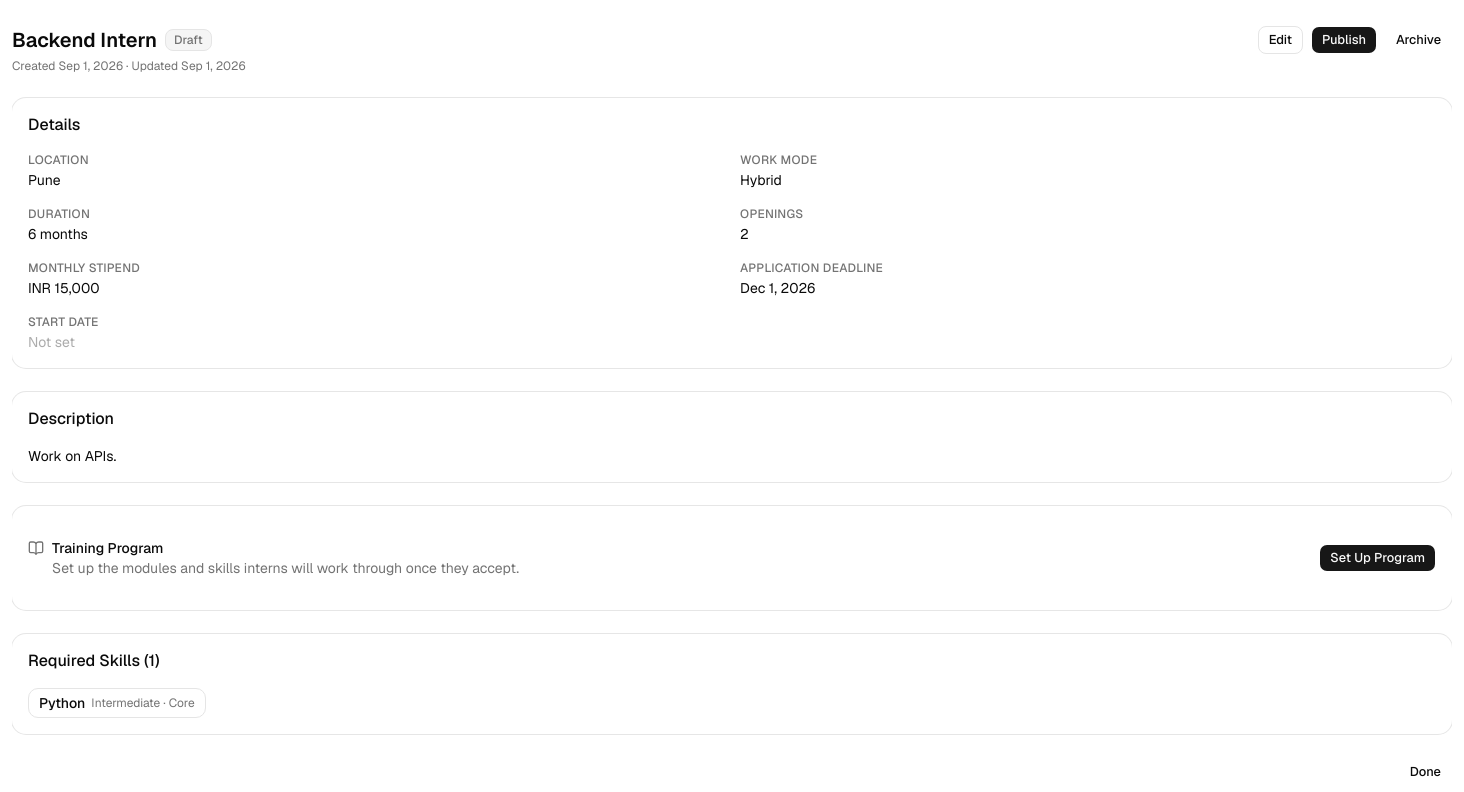
Test: InternshipDetailView › switches to the edit form and saves changes
Expected: the heading "Backend Intern" is shown, [12, 26, 157, 54]
Click the button "Edit". click: (1280, 40)
box: [1258, 26, 1303, 54]
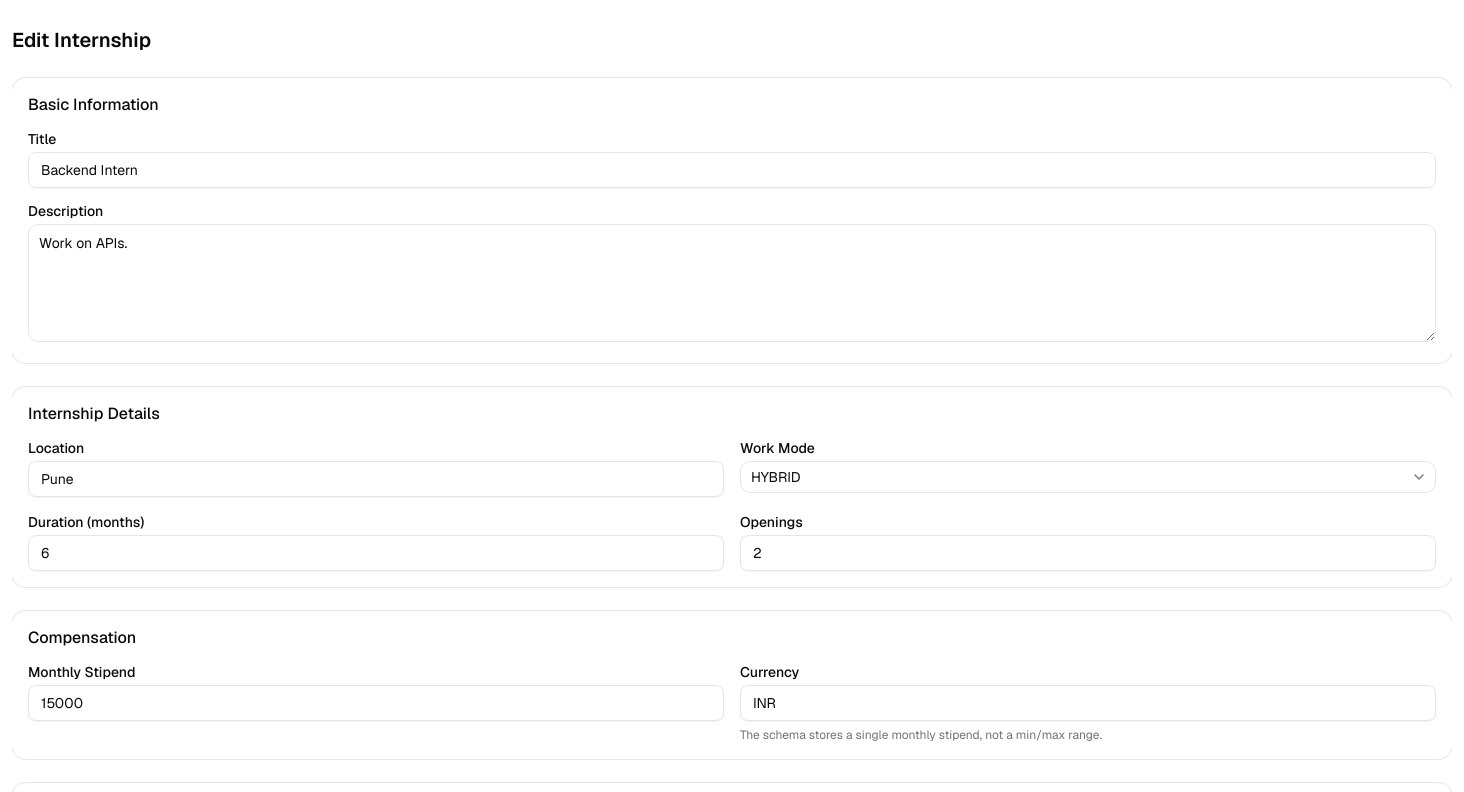
Replace the text in the field labelled "Title" with "Backend Intern (updated)". click: (732, 170)
box: [28, 152, 1436, 188]
(page scrolled)
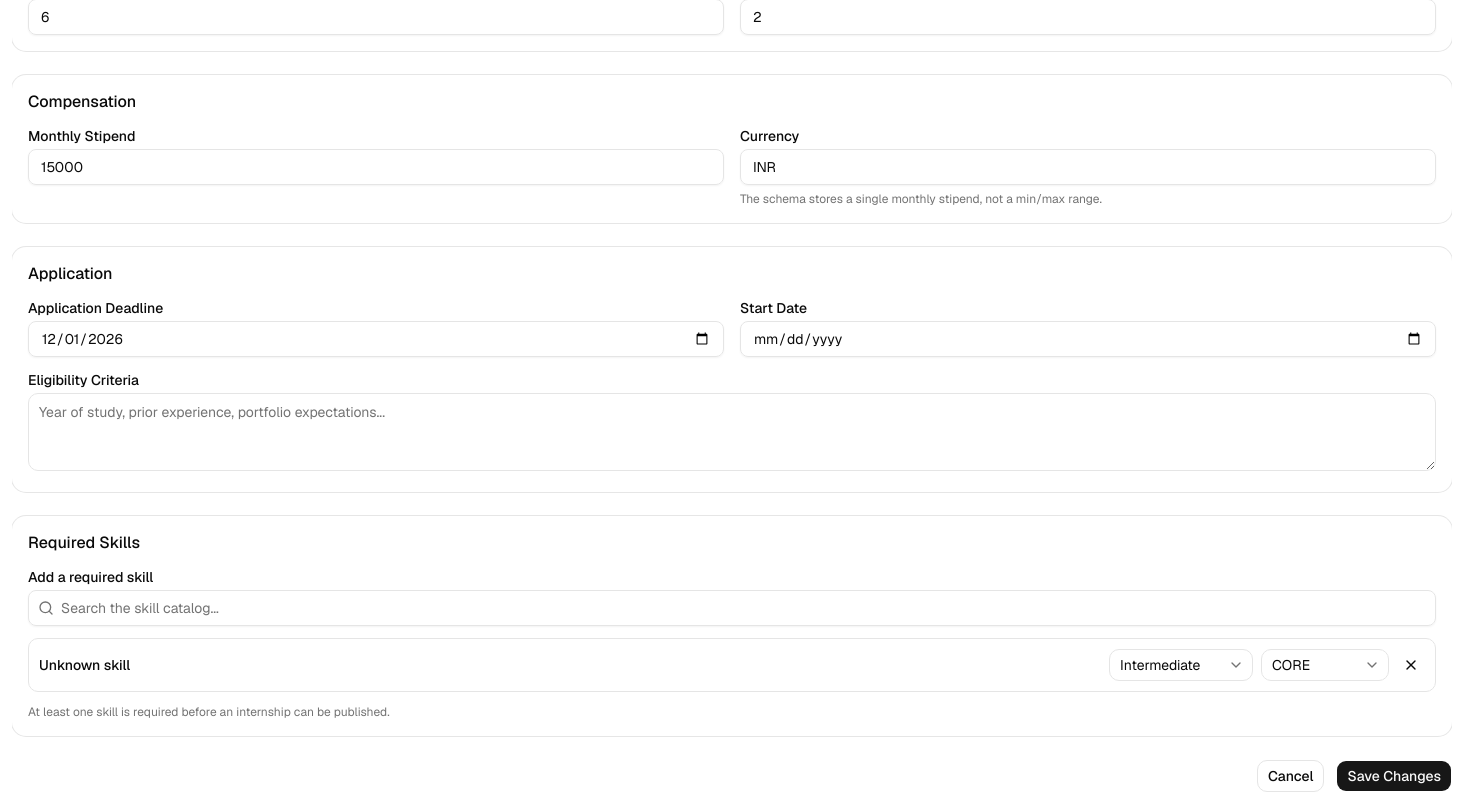
Click the button "Save Changes". click: (1394, 776)
box: [1336, 760, 1452, 791]
(page scrolled)
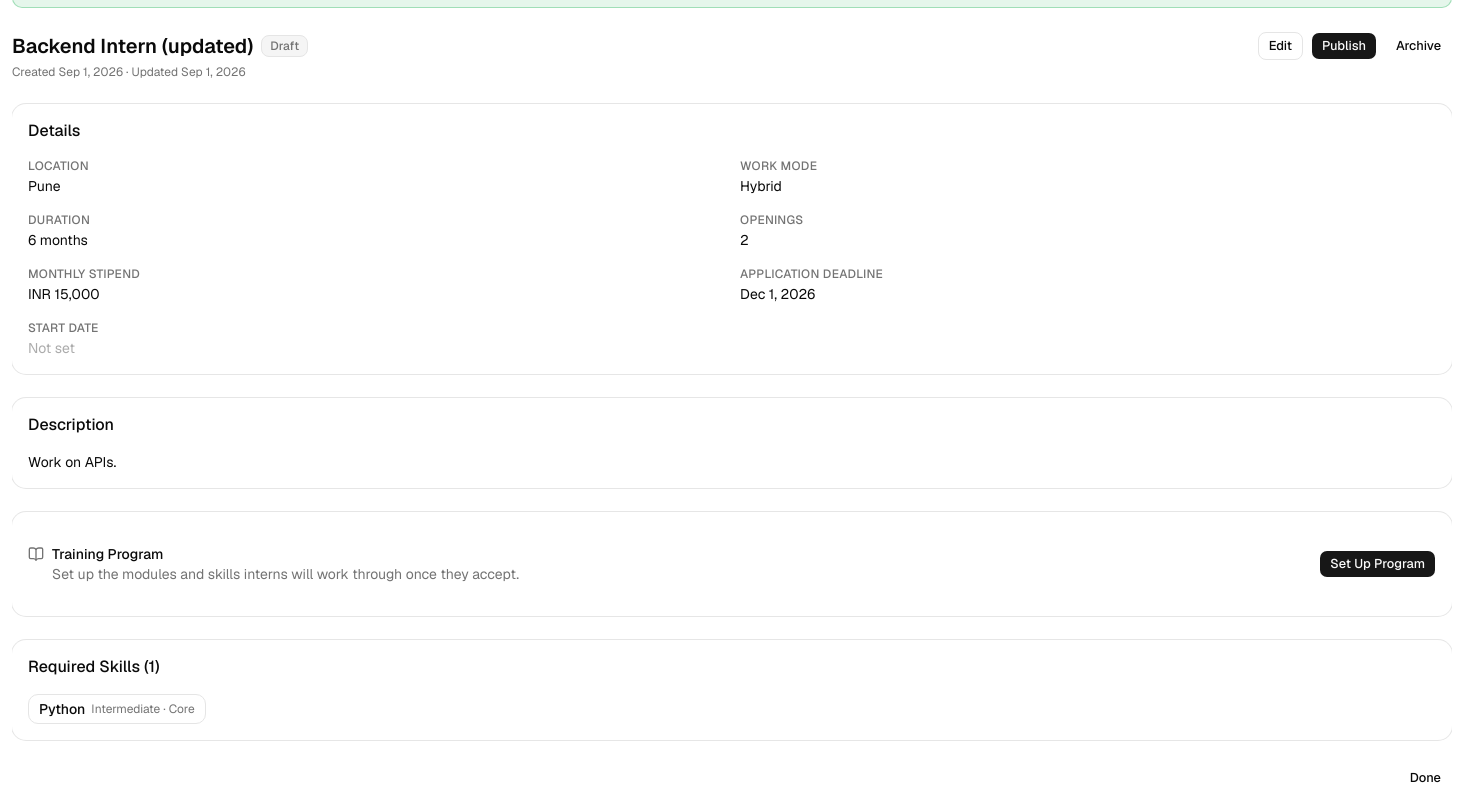
Result: the heading "Backend Intern (updated)" is shown at [12, 32, 253, 60]
